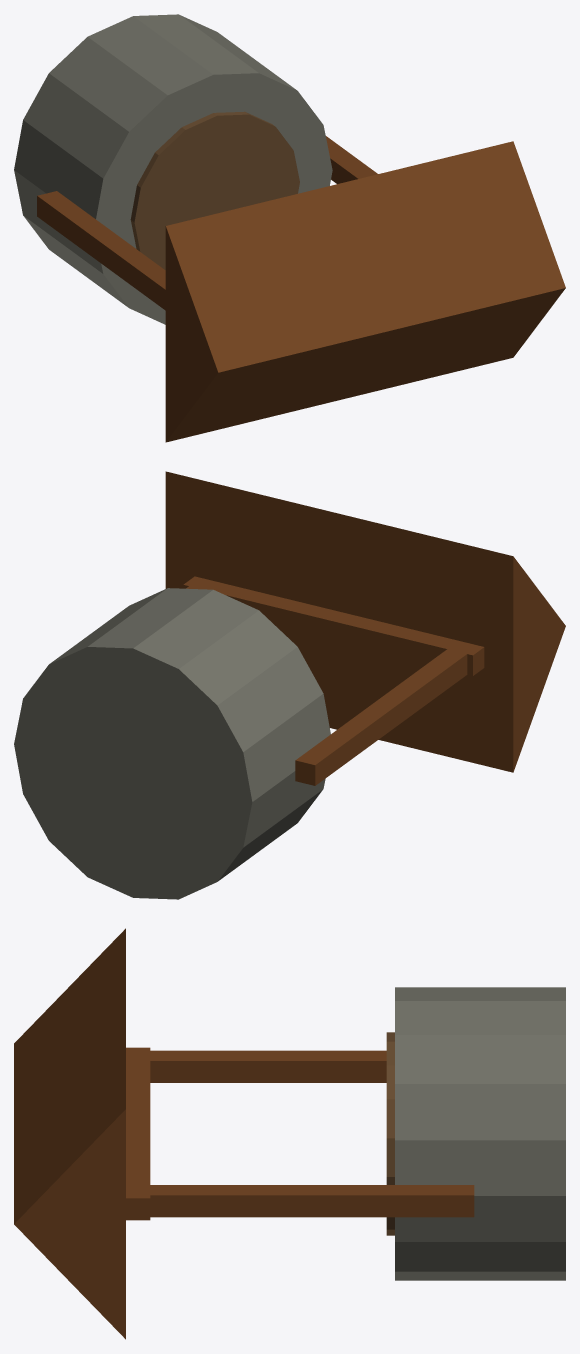
Rendered from SM_ShWell.obj.
The picture shows the model from 3 angles, top to bottom: view 1: azimuth 30°, elevation 25°; view 2: azimuth 150°, elevation 25°; view 3: azimuth 270°, elevation 25°; orthographic projection. The views are drawn at different scales.
Bounding box in the file's own units: 210 × 144 × 271.
